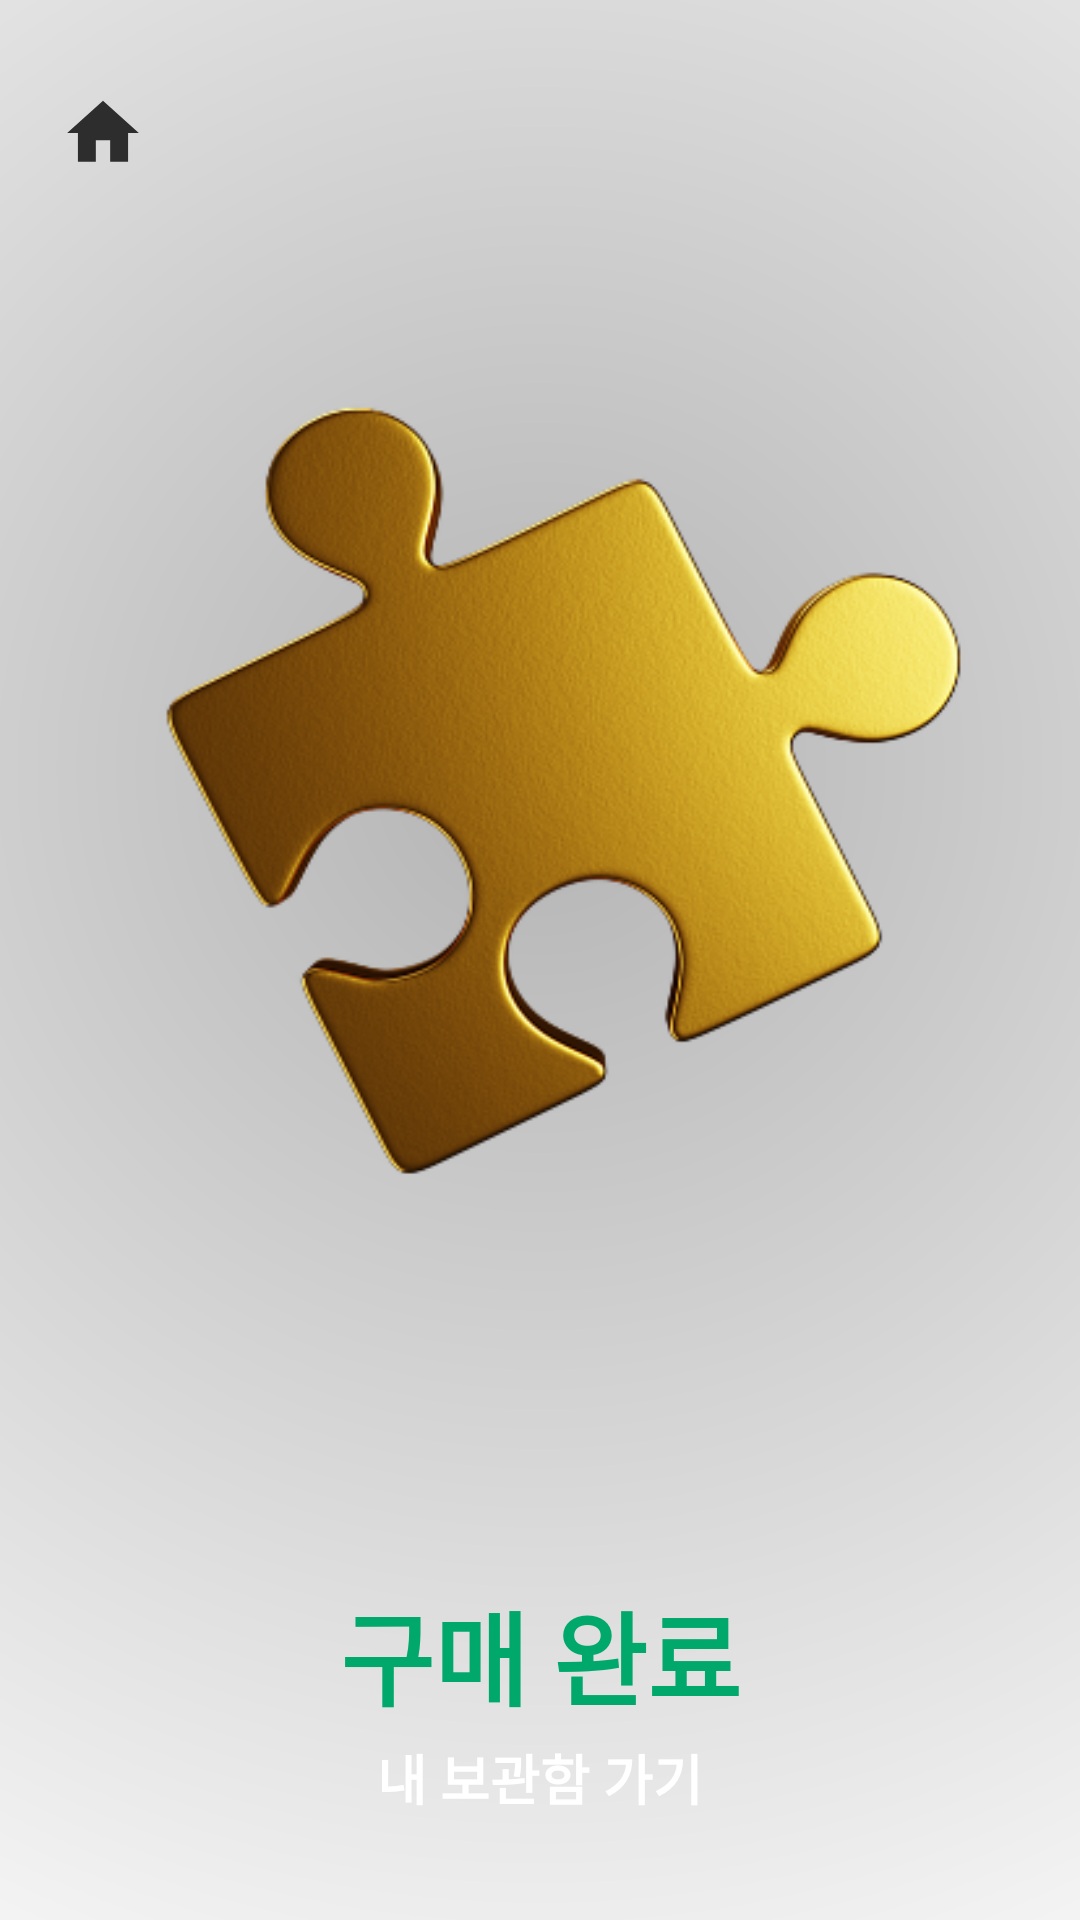

Screen size 1080x1920. Icon name, then its box in pixels as (x1, y1, x2, y2):
home: (67, 101, 139, 162)
